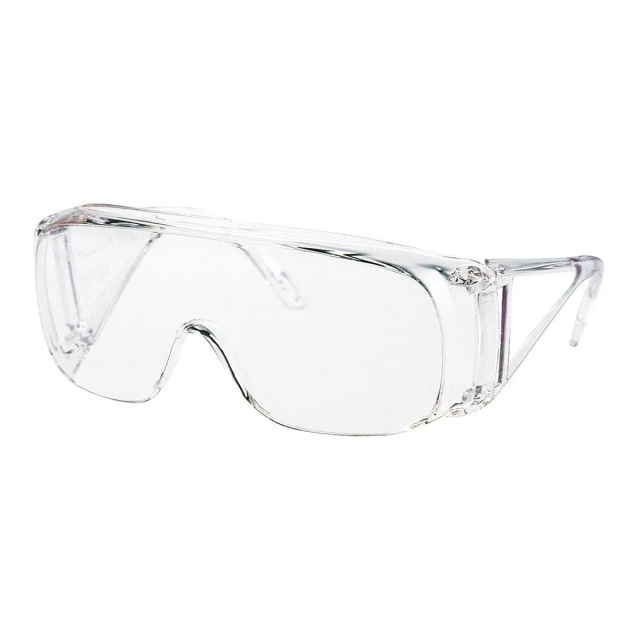Safety_Goggles: (3, 154, 604, 428)
